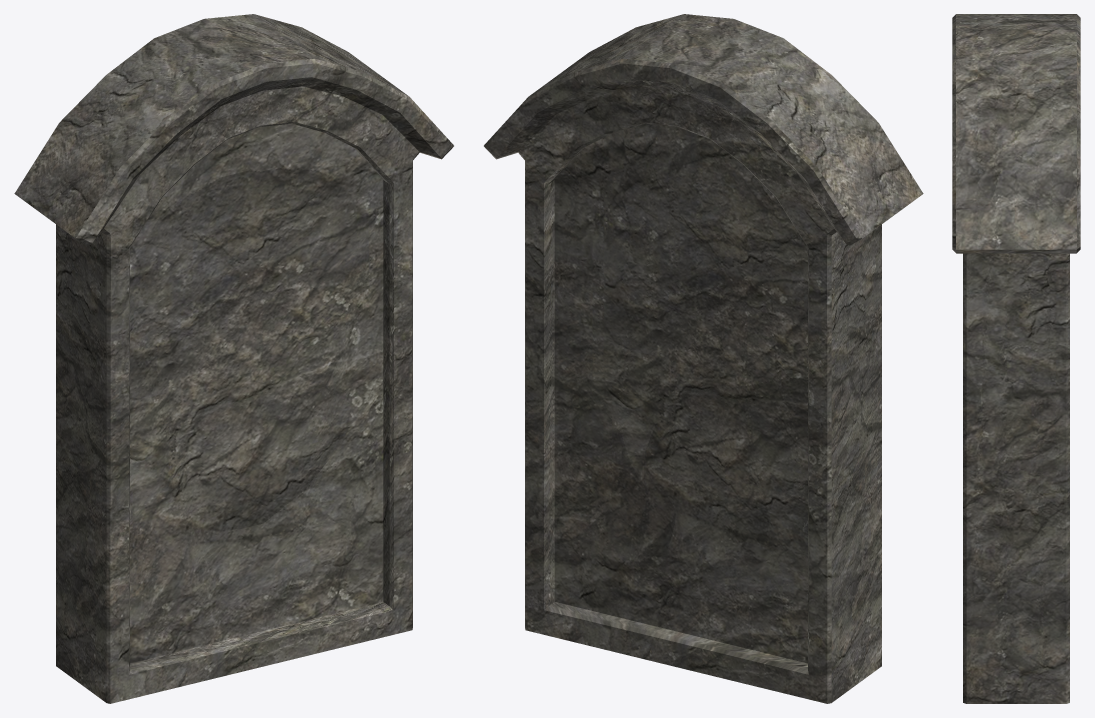
The model's file is Gravestones_Stone_06.fbx.
3 views of the same model, side by side, from view 1: azimuth 30°, elevation 25°; view 2: azimuth 150°, elevation 25°; view 3: azimuth 270°, elevation 25° (orthographic).
Visible parts, largest first — view 1: pCube5; view 2: pCube5; view 3: pCube5.
Part boxes in pixels (x1,y1,x2,y2): pCube5: (14, 14, 453, 703); pCube5: (484, 14, 923, 703); pCube5: (952, 14, 1080, 703).
Bounding box in the file's own units: 0.7037 × 1.08 × 0.2081.
